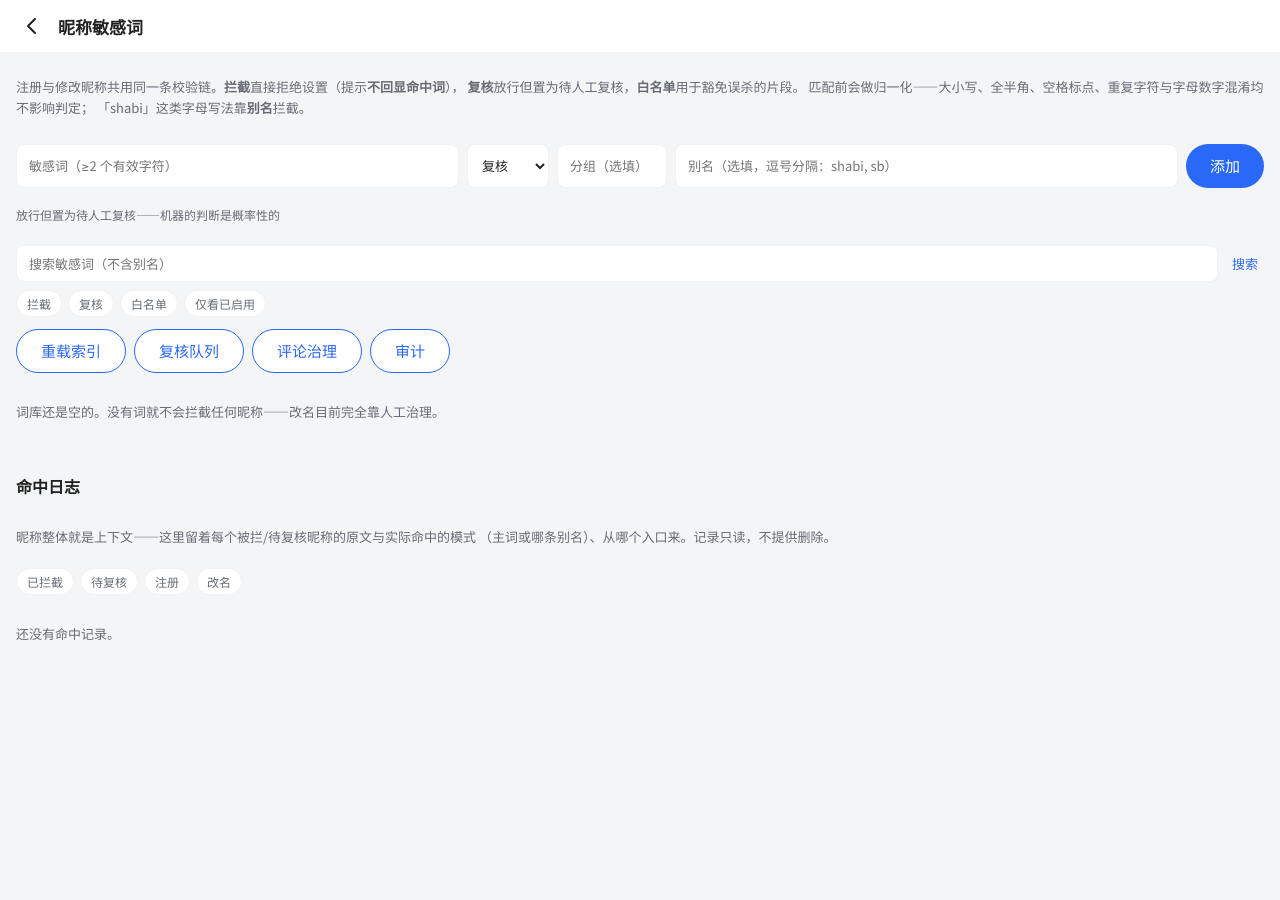
Scenario: views/AdminNicknameWords 新增与维护 › 后端拒绝（太短 42204 / 重复 40906）时错误留在表单下方
This screenshot has width=1280, height=900.
Type "射" into the field named "敏感词" at x=238, y=166, box [16, 144, 459, 188]
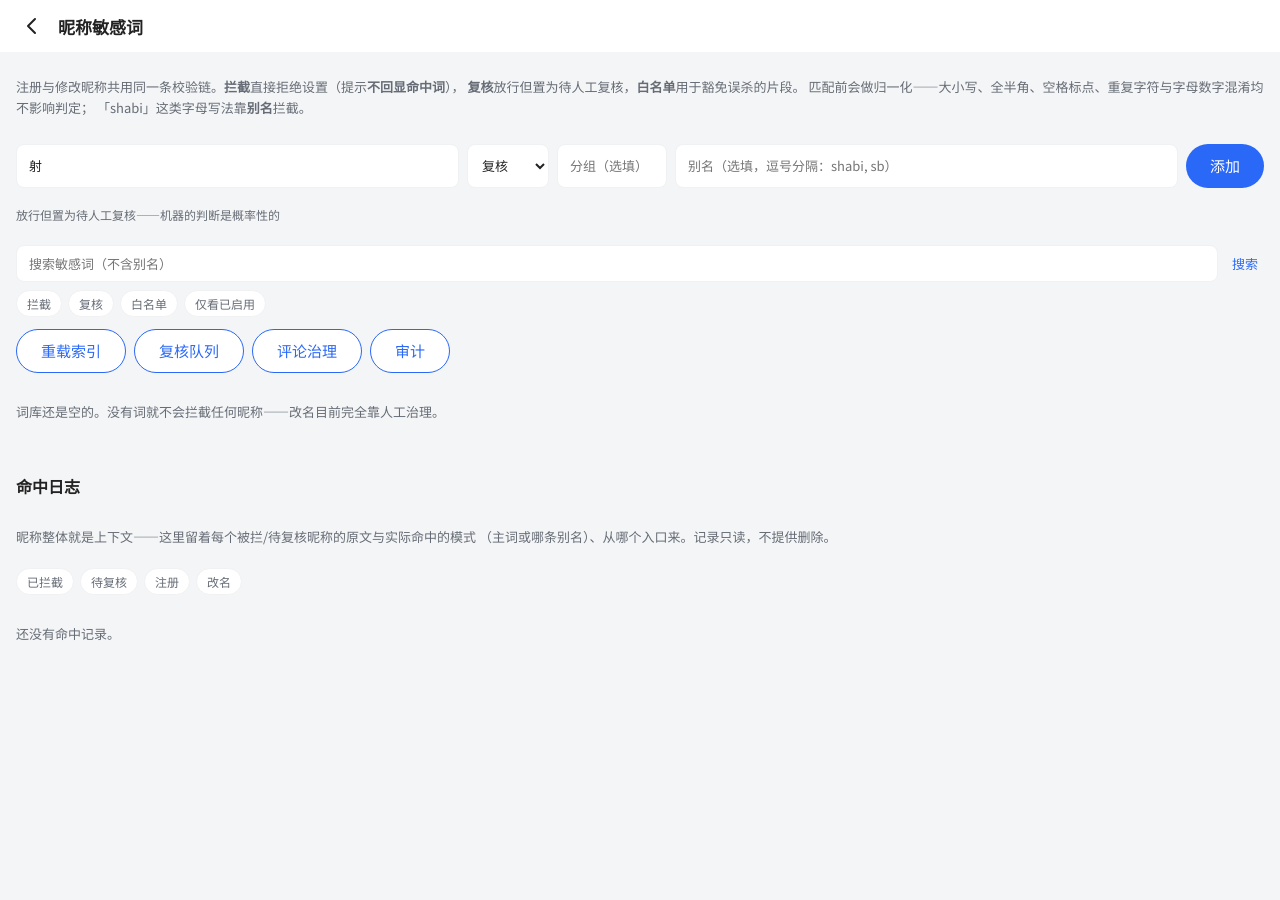
Click the button "添加" at x=1225, y=166, box [1186, 144, 1264, 188]
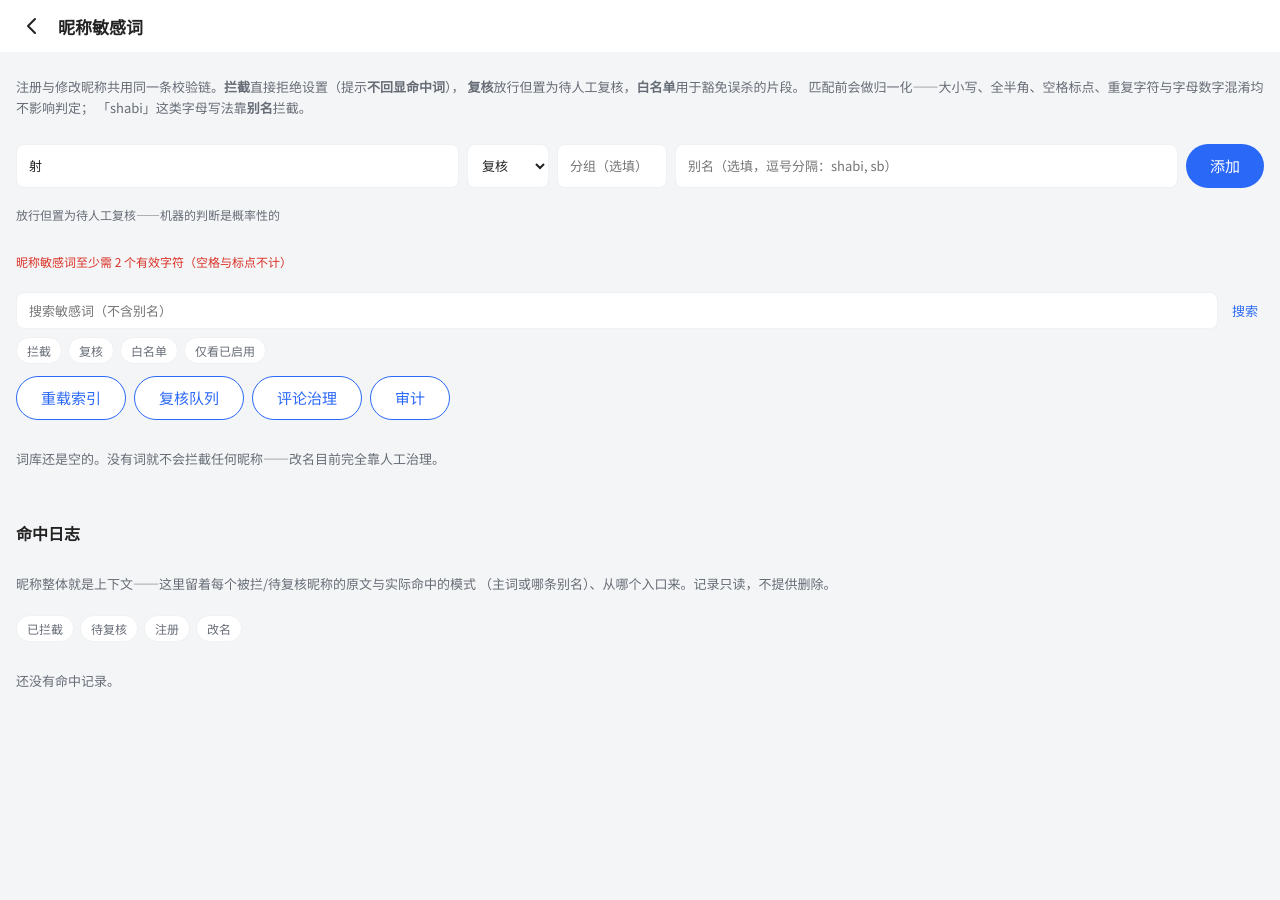
expect the text "昵称敏感词至少需 2 个有效字符" is shown: met, box [16, 253, 292, 270]
